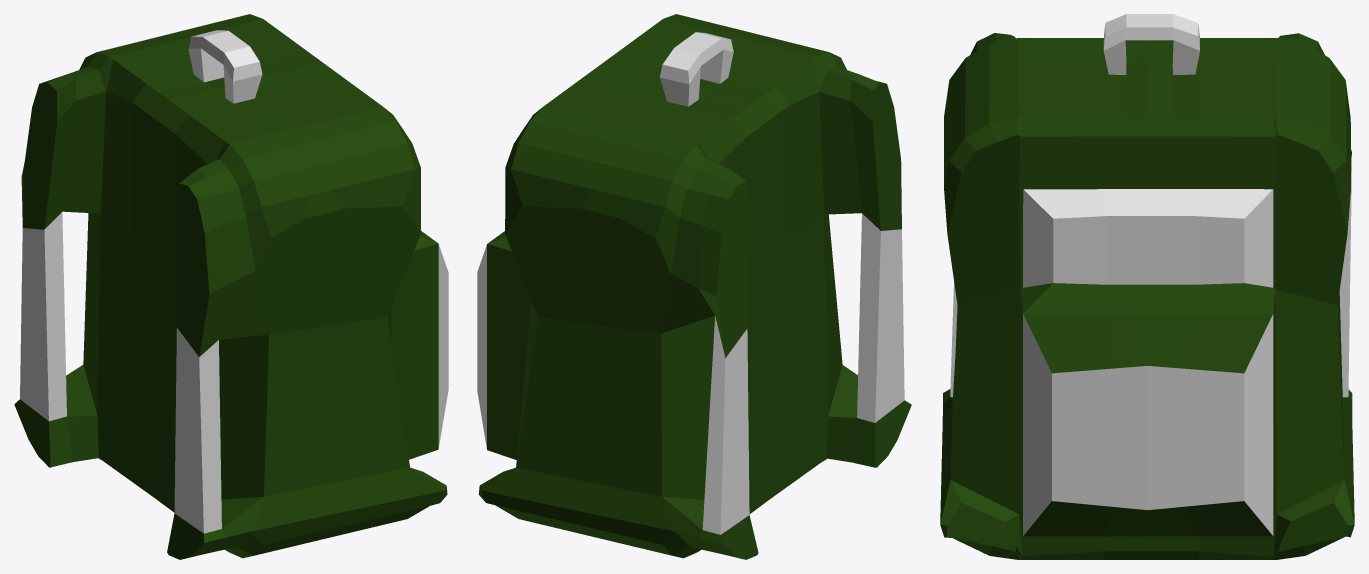
File: Mochilablend02.fbx
3 renders of one model, left to right at view 1: azimuth 30°, elevation 25°; view 2: azimuth 150°, elevation 25°; view 3: azimuth 270°, elevation 25°, orthographic. The views are drawn at different scales.
Parts seen in each view (by area): view 1: Cube; view 2: Cube; view 3: Cube.
Boxes of the visible parts, x1=… form: Cube: x1=14, y1=14, x2=448, y2=559; Cube: x1=477, y1=14, x2=911, y2=559; Cube: x1=940, y1=14, x2=1354, y2=559.
Size of the model in its own units: 152 by 221 by 170.
